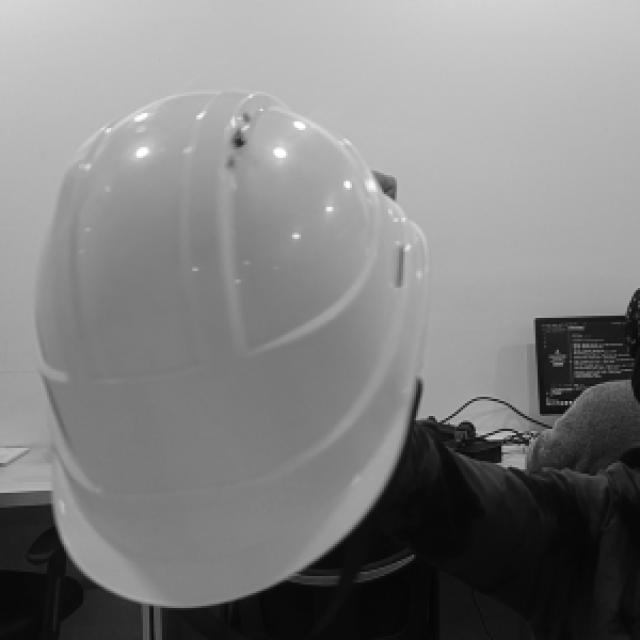safety_helmet: (34, 91, 431, 611)
